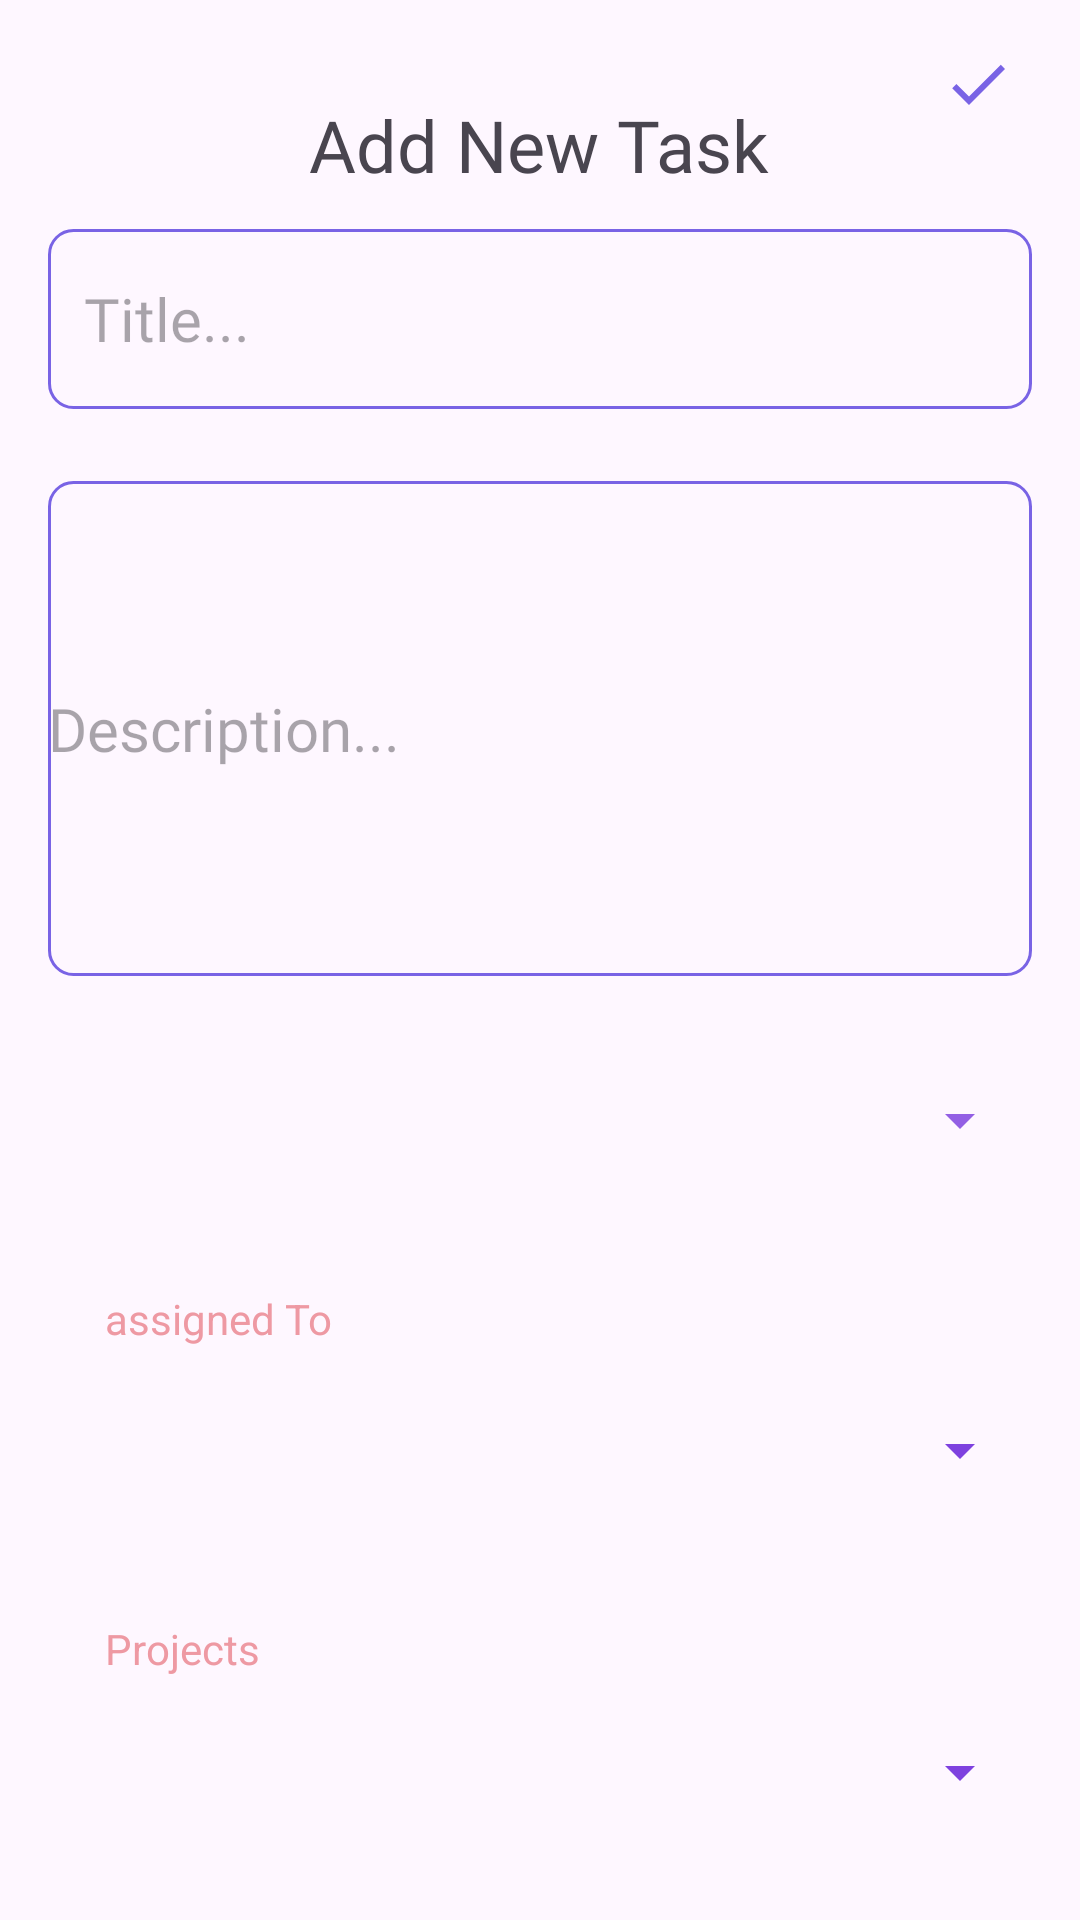

Point at icon controls on the screen. Image size 1080*1920, points as point (x, y).
done: point (978, 85)
